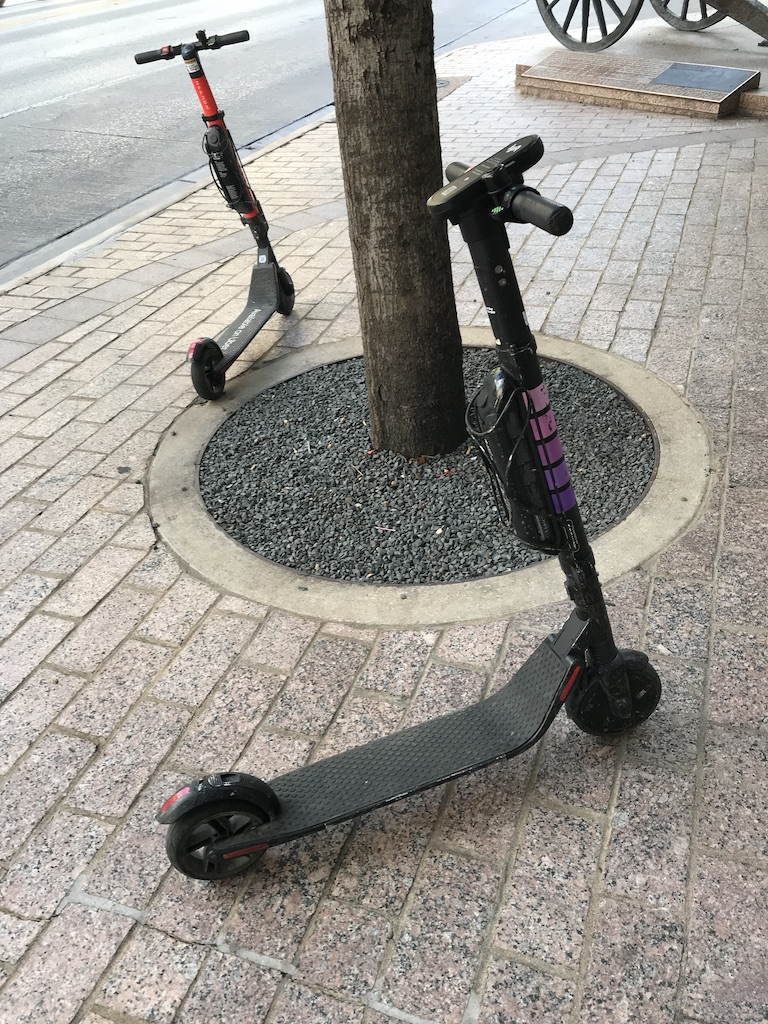scooter: (153, 133, 663, 882), (133, 30, 297, 407)
